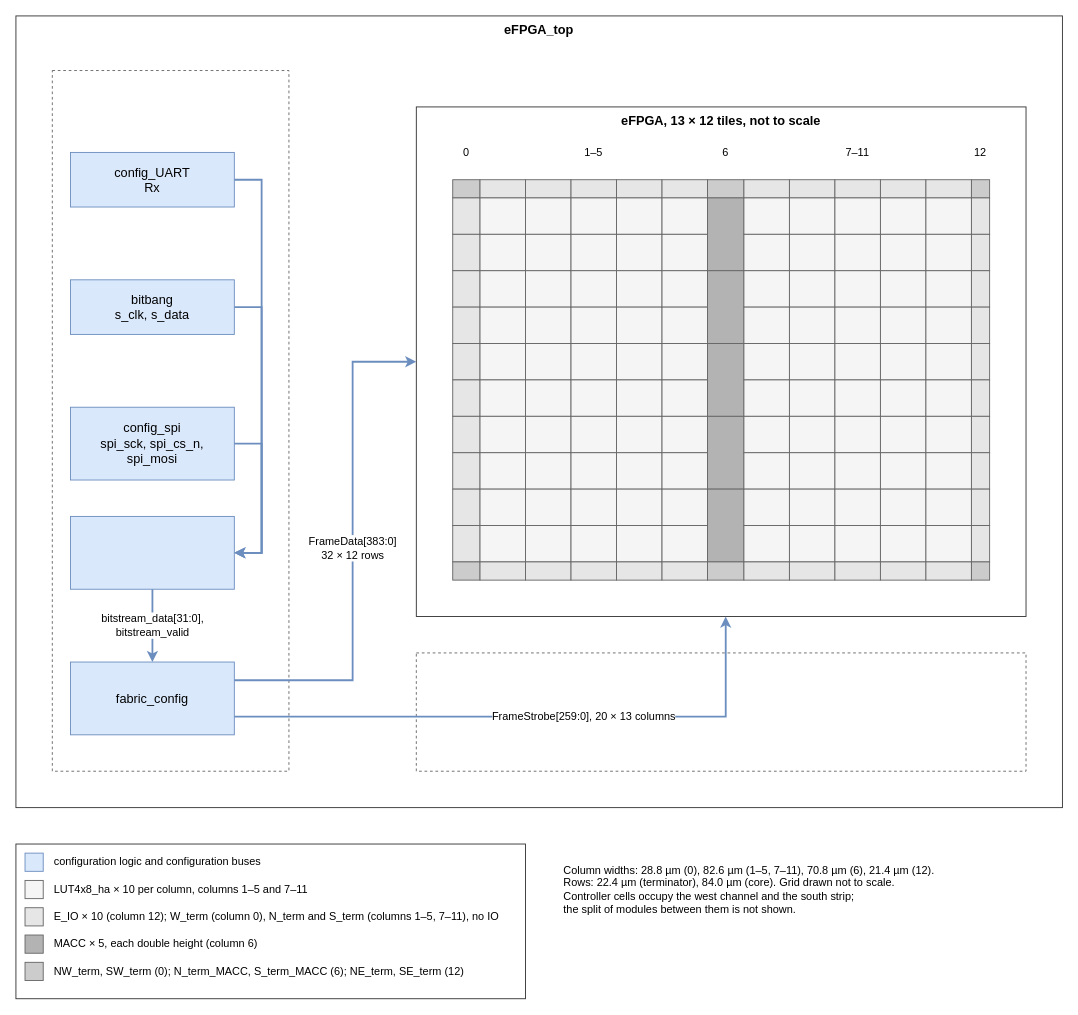
Image size: 1078x1015. Some labels were removed from this diagram. The shapes that lost their labels are listed below. From the top down, each one's box as (x1, y1, x2, y2) in pixels, then its label:
(51, 70, 289, 771): west channel, 48 µm
(70, 516, 234, 589): config_frontend UART > bitbang > SPI
(415, 652, 1026, 771): south strip, 22.4 µm
